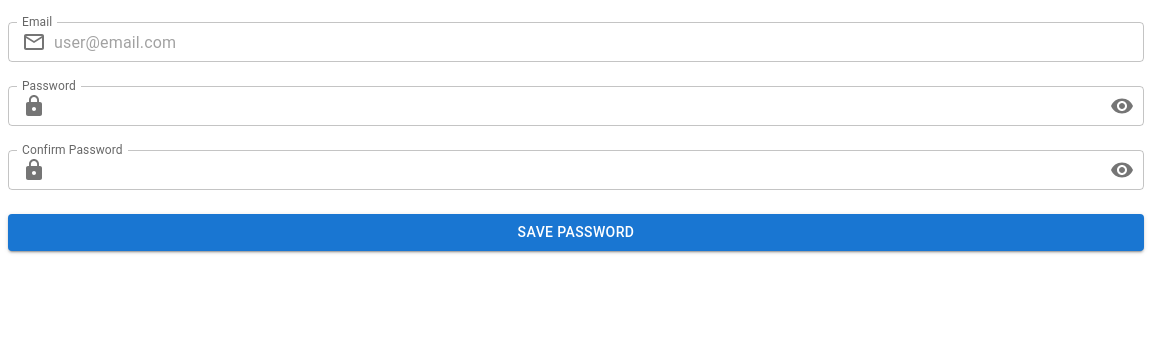
Test: Reset Password Form › should display error messages when clicked on button and the inputs are empty
Step 1. Click the button "Save password" → (576, 232), box [8,214,1144,250]
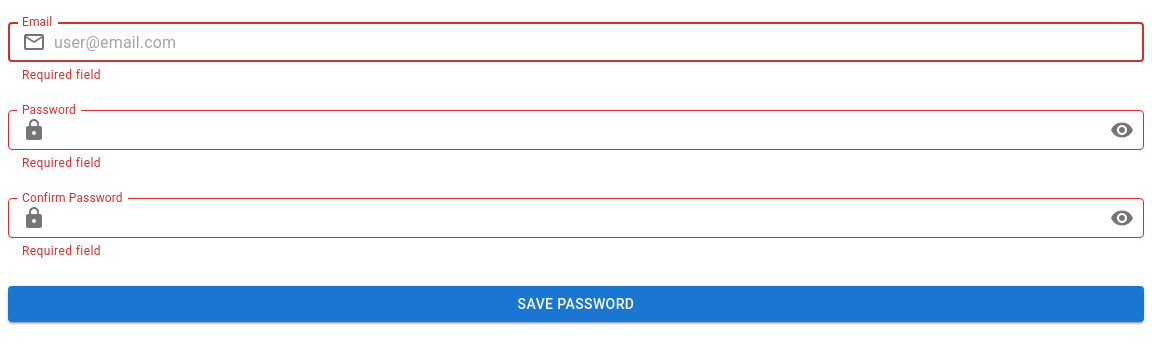
Result: the text "Required field" is shown 3 times at [22,68,101,82]; [22,156,101,170]; [22,244,101,258]
